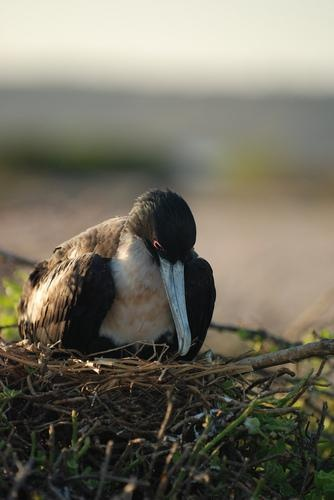bird: (19, 186, 218, 363)
